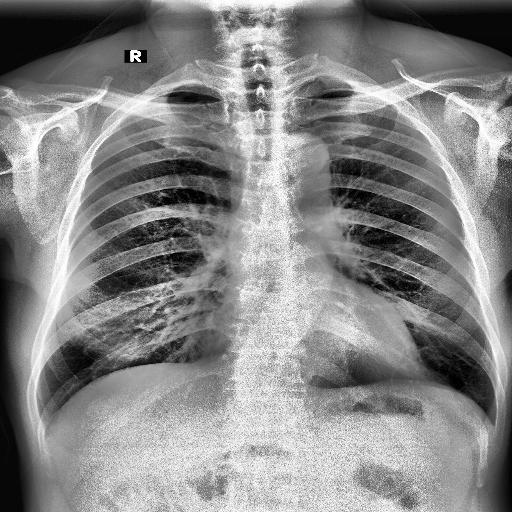0- Aortic enlargement: (278, 132, 332, 194), (270, 132, 330, 175), (277, 133, 330, 181)
